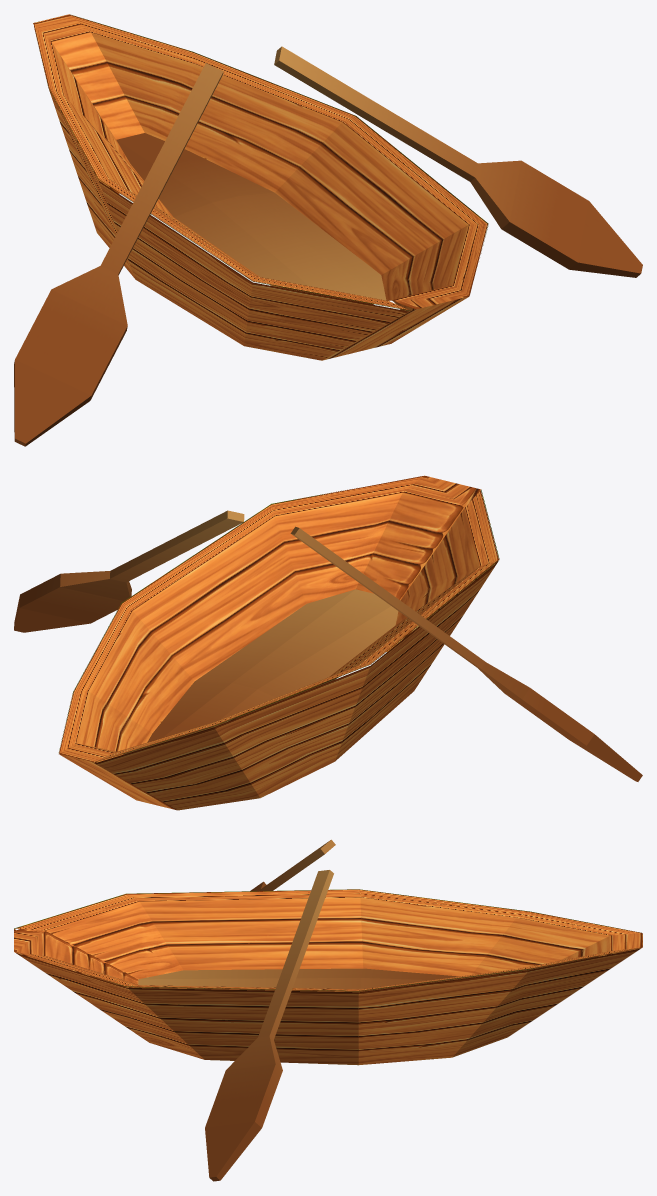
Rendered from lod_RRH.fbx.
The picture shows the model from 3 angles, top to bottom: view 1: azimuth 30°, elevation 25°; view 2: azimuth 150°, elevation 25°; view 3: azimuth 270°, elevation 25°; orthographic projection. The views are drawn at different scales.
Visible parts, largest first — view 1: лодка, весло_R, весло_L; view 2: лодка, весло_L, весло_R; view 3: лодка, весло_L, весло_R.
Boxes of the visible parts, bbox=[...] form: лодка: bbox=[33, 14, 488, 360]; весло_R: bbox=[14, 63, 223, 446]; весло_L: bbox=[274, 46, 642, 277]; лодка: bbox=[58, 475, 499, 810]; весло_L: bbox=[14, 510, 244, 632]; весло_R: bbox=[290, 526, 642, 781]; лодка: bbox=[14, 889, 642, 1065]; весло_L: bbox=[205, 870, 333, 1181]; весло_R: bbox=[250, 839, 335, 891].
Size of the model in its own units: 665 by 257 by 702.
